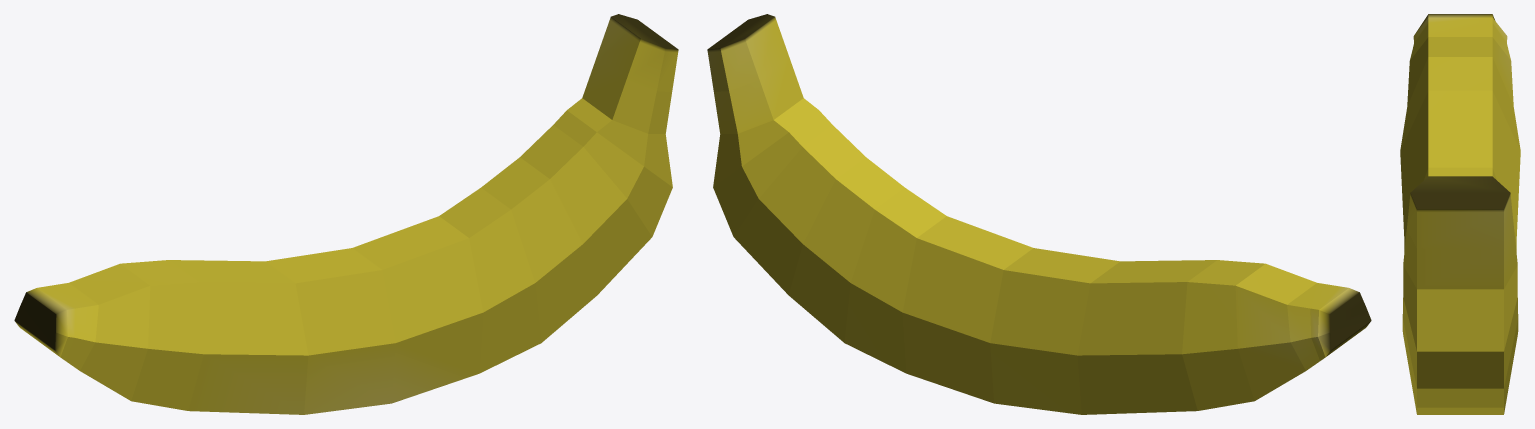
Rendered from banana.fbx.
The picture shows the model from 3 angles, left to right: view 1: azimuth 30°, elevation 25°; view 2: azimuth 150°, elevation 25°; view 3: azimuth 270°, elevation 25°; orthographic projection. The views are drawn at different scales.
Parts seen in each view (by area): view 1: Cube; view 2: Cube; view 3: Cube.
Boxes of the visible parts, left/top/right/bottom form: Cube: left=14, top=14, right=678, bottom=414; Cube: left=707, top=14, right=1371, bottom=414; Cube: left=1400, top=14, right=1520, bottom=414.
Size of the model in its own units: 723 by 331 by 114.
